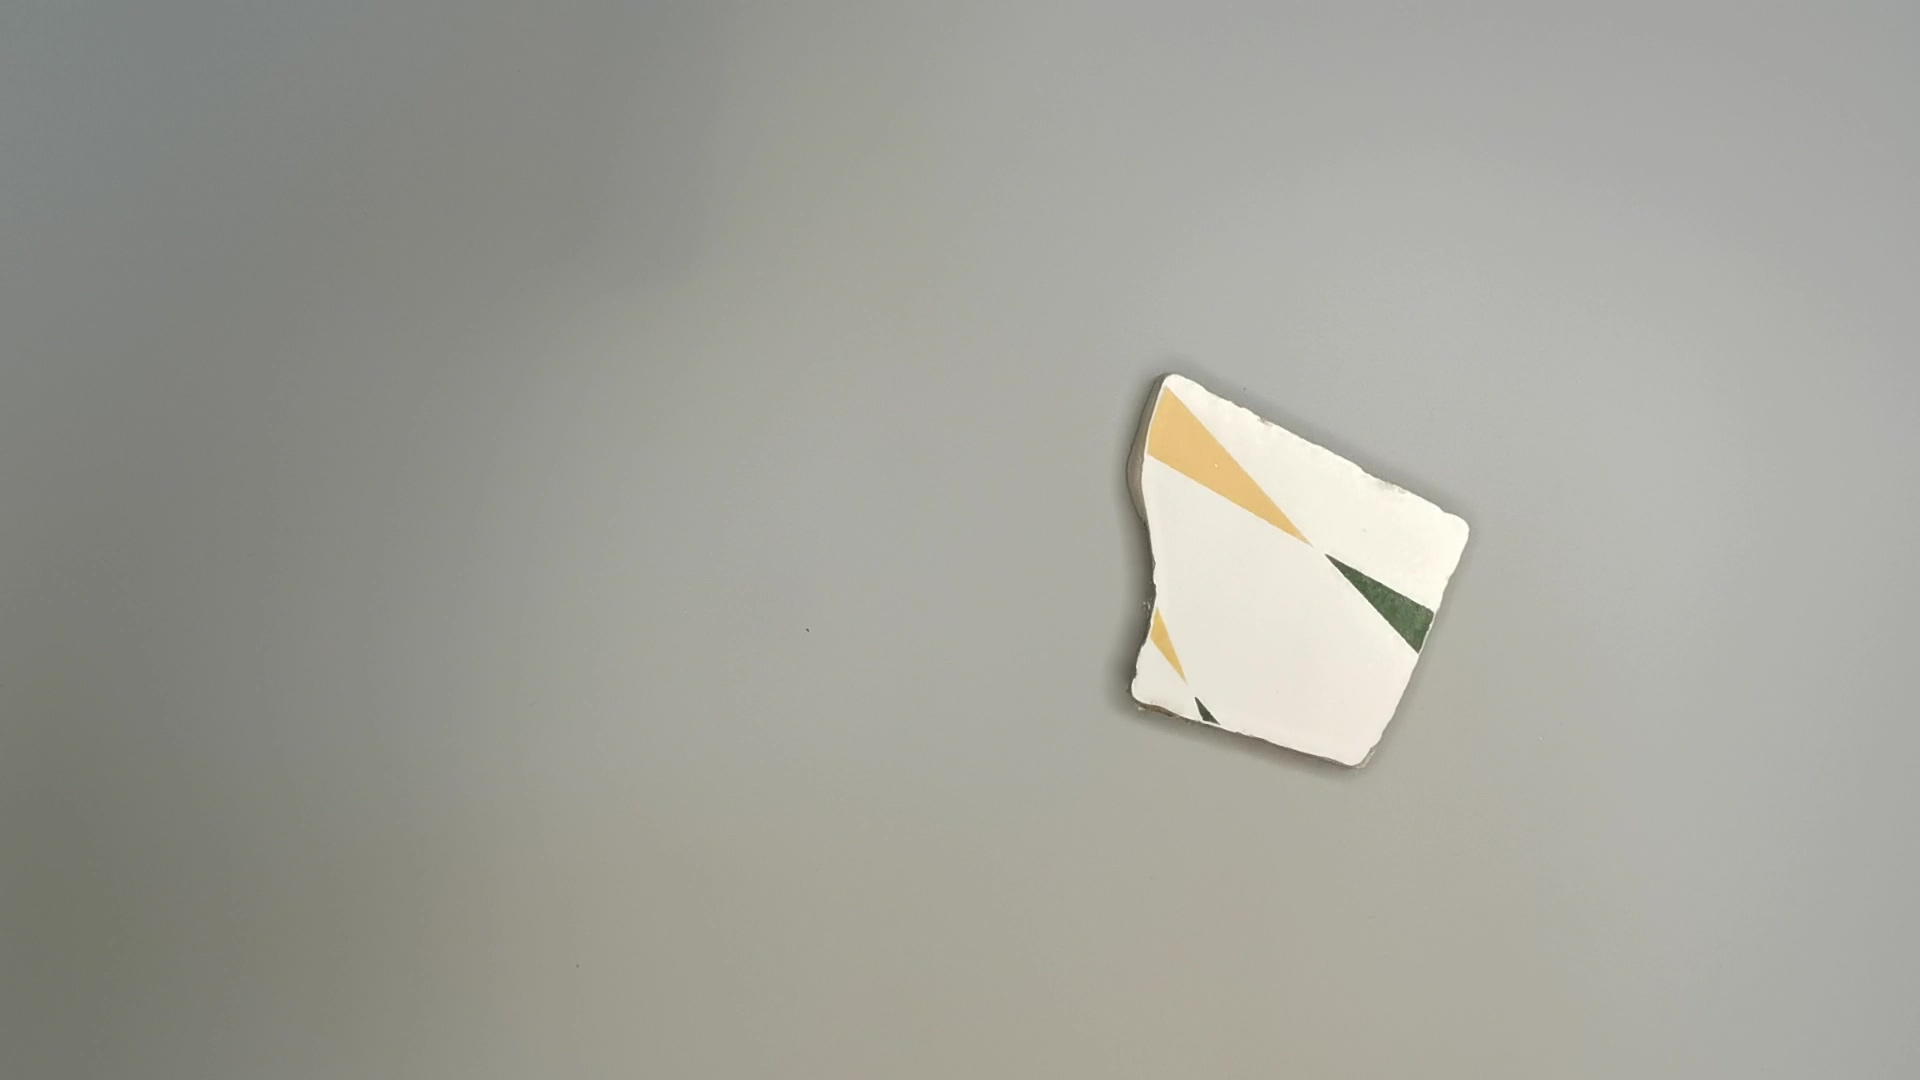ceramic: (1118, 372, 1485, 783)
